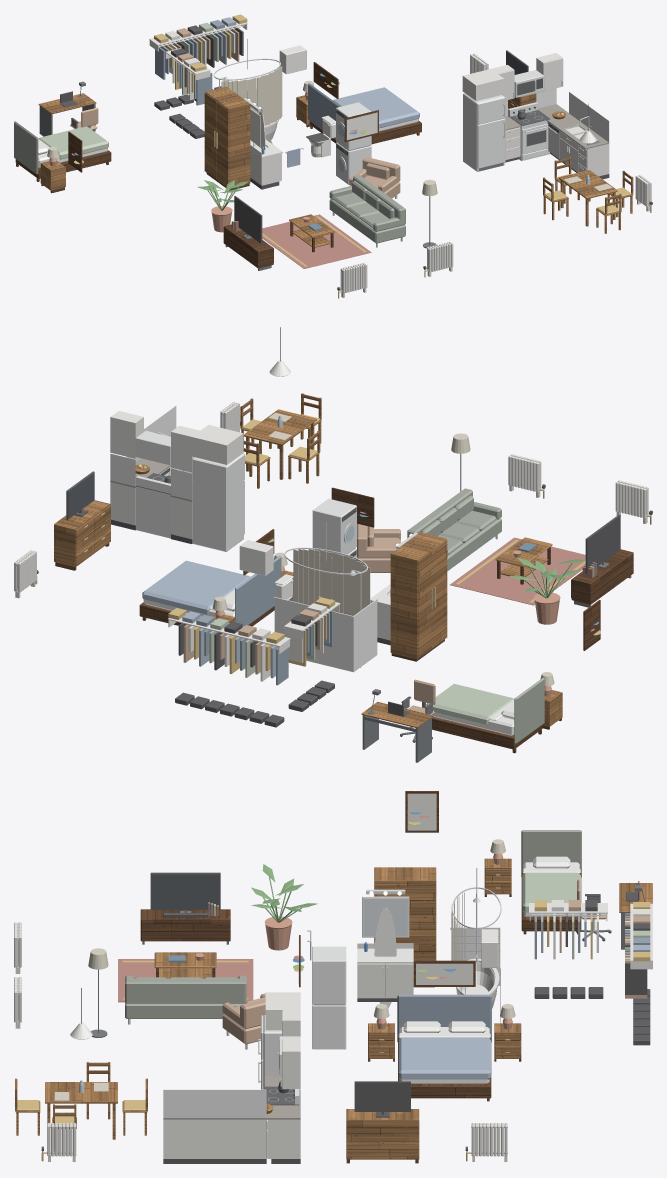
The model's file is apt_r.glb.
3 views of the same model, one above another, from view 1: azimuth 30°, elevation 25°; view 2: azimuth 150°, elevation 25°; view 3: azimuth 270°, elevation 25° (orthographic). The views are drawn at different scales.
Parts seen in each view (by area): view 1: apt_r_wood, apt_r_appl, apt_r_cab, apt_r_fabric_g, apt_r_dkwood, apt_r_dark, apt_r_rug, apt_r_bed_b, apt_r_curtain, apt_r_radiator, apt_r_fabric_t, apt_r_fabric2 (+13 smaller); view 2: apt_r_wood, apt_r_appl, apt_r_cab, apt_r_dkwood, apt_r_tile_w, apt_r_dark, apt_r_fabric_g, apt_r_curtain, apt_r_bed_b, apt_r_radiator, apt_r_rug, apt_r_fabric_t (+12 smaller); view 3: apt_r_wood, apt_r_cab, apt_r_fabric_g, apt_r_dark, apt_r_dkwood, apt_r_appl, apt_r_bed_b, apt_r_tile_w, apt_r_fabric2, apt_r_radiator, apt_r_paper, apt_r_bed_w (+15 smaller).
Boxes of the visible parts, x1,y1,x2,y2 form: apt_r_wood: [38, 86, 633, 247]; apt_r_appl: [336, 70, 559, 184]; apt_r_cab: [250, 53, 609, 185]; apt_r_fabric_g: [14, 121, 405, 243]; apt_r_dkwood: [15, 62, 421, 268]; apt_r_dark: [60, 25, 652, 290]; apt_r_rug: [71, 82, 560, 268]; apt_r_bed_b: [159, 17, 419, 167]; apt_r_curtain: [47, 66, 612, 196]; apt_r_radiator: [340, 53, 651, 297]; apt_r_fabric_t: [70, 28, 400, 198]; apt_r_fabric2: [155, 20, 340, 139]; apt_r_wood: [54, 393, 562, 727]; apt_r_appl: [135, 430, 356, 598]; apt_r_cab: [110, 411, 390, 640]; apt_r_dkwood: [55, 487, 633, 753]; apt_r_tile_w: [110, 406, 377, 672]; apt_r_dark: [37, 327, 652, 742]; apt_r_fabric_g: [407, 488, 544, 743]; apt_r_curtain: [212, 412, 554, 686]; apt_r_bed_b: [142, 560, 329, 678]; apt_r_radiator: [14, 401, 648, 598]; apt_r_rug: [139, 466, 594, 631]; apt_r_fabric_t: [183, 523, 435, 714]; apt_r_wood: [15, 858, 652, 1159]; apt_r_cab: [163, 956, 413, 1158]; apt_r_fabric_g: [125, 830, 581, 1018]; apt_r_dark: [41, 872, 650, 1163]; apt_r_dkwood: [140, 791, 581, 1163]; apt_r_appl: [261, 946, 346, 1104]; apt_r_bed_b: [310, 913, 650, 1079]; apt_r_tile_w: [163, 927, 500, 1117]; apt_r_fabric2: [397, 913, 650, 1041]; apt_r_radiator: [14, 922, 507, 1161]; apt_r_paper: [298, 793, 650, 1010]; apt_r_bed_w: [398, 856, 580, 1083].
Size of the model in its own units: 11.68 by 3.05 by 11.35.
Materials: 38 (2 with a texture image).
